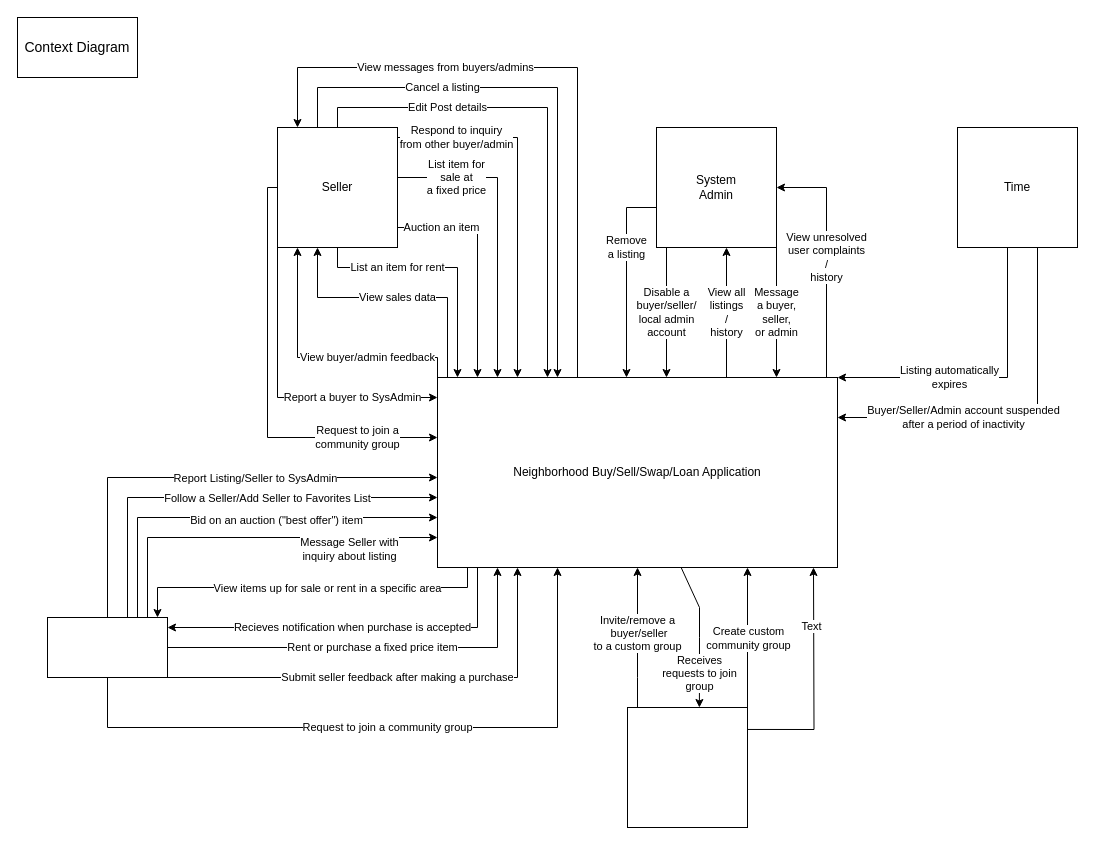
The diagram is 1095 pixels wide and 845 high, and some of its shapes have lost their labels. Here are the shapes that lost their labels. From the top down, the centre of each, then its label:
At (x=107, y=647): "Buyer".
At (x=687, y=767): "Local Admin".
